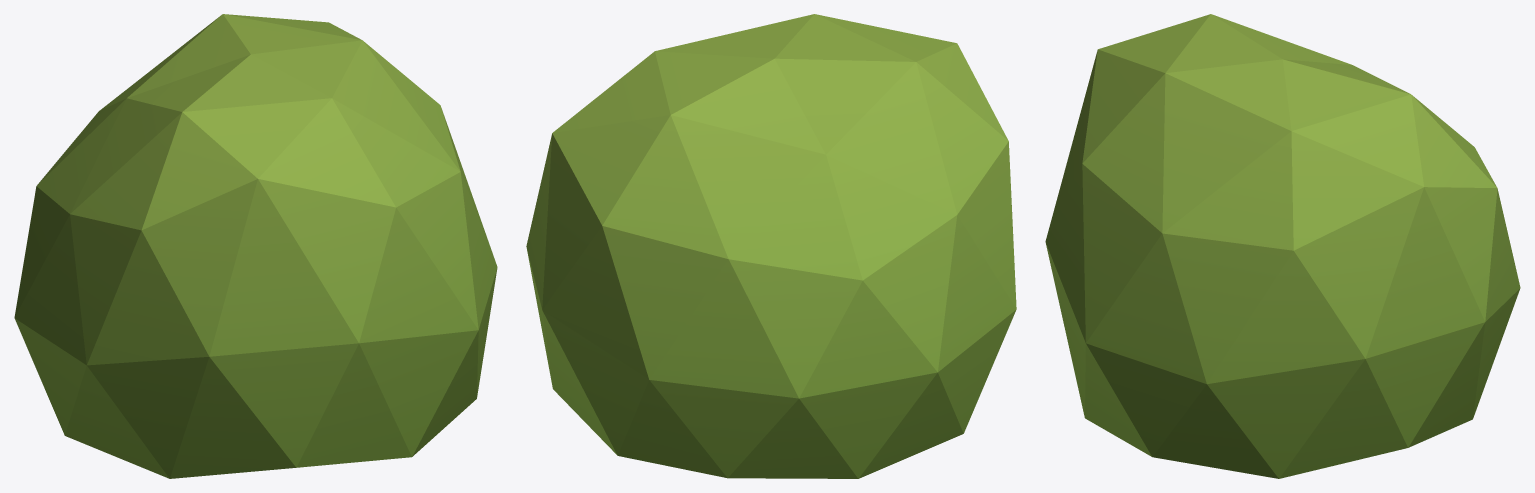
The model's file is Bush_02.fbx.
3 views of the same model, side by side, from view 1: azimuth 30°, elevation 25°; view 2: azimuth 150°, elevation 25°; view 3: azimuth 270°, elevation 25° (orthographic). The views are drawn at different scales.
Visible parts, largest first — view 1: Bush_02; view 2: Bush_02; view 3: Bush_02.
Boxes of the visible parts, x1,y1,x2,y2 form: Bush_02: [14, 14, 497, 478]; Bush_02: [526, 14, 1016, 478]; Bush_02: [1045, 14, 1520, 478].
Bounding box in the file's own units: 1.53 × 1.29 × 1.58.
